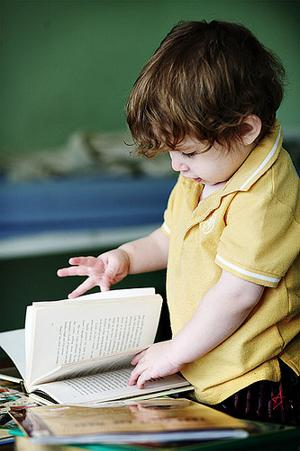person: (59, 20, 300, 428)
